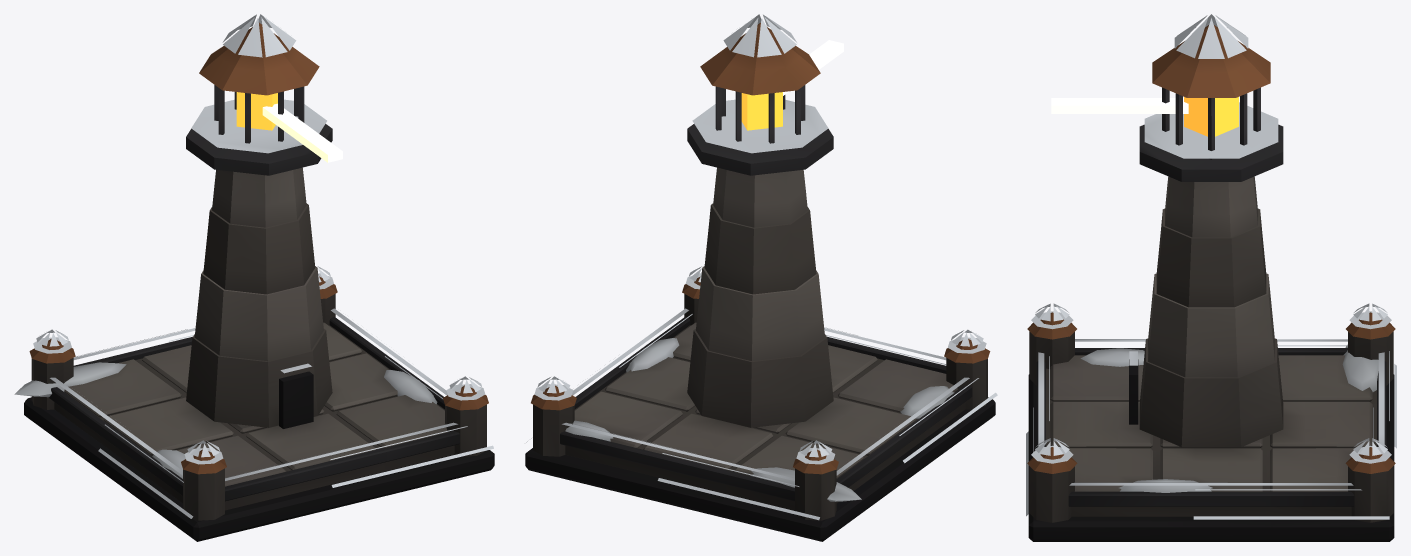
The model's file is nains-5.glb.
3 renders of one model, left to right at view 1: azimuth 30°, elevation 25°; view 2: azimuth 150°, elevation 25°; view 3: azimuth 270°, elevation 25°, orthographic. The views are drawn at different scales.
Parts seen in each view (by area): view 1: hautroc_5_architecture, Faisceau, Prisme; view 2: hautroc_5_architecture, Prisme, Faisceau; view 3: hautroc_5_architecture, Faisceau, Prisme.
Boxes of the visible parts, x1,y1,x2,y2 form: hautroc_5_architecture: [14, 14, 494, 541]; Faisceau: [262, 103, 342, 162]; Prisme: [236, 92, 277, 130]; hautroc_5_architecture: [525, 14, 997, 541]; Prisme: [741, 92, 782, 130]; Faisceau: [783, 40, 843, 95]; hautroc_5_architecture: [1026, 14, 1396, 541]; Faisceau: [1051, 98, 1188, 113]; Prisme: [1184, 97, 1238, 136].
Size of the model in its own units: 0.8655 by 1.09 by 0.811.
